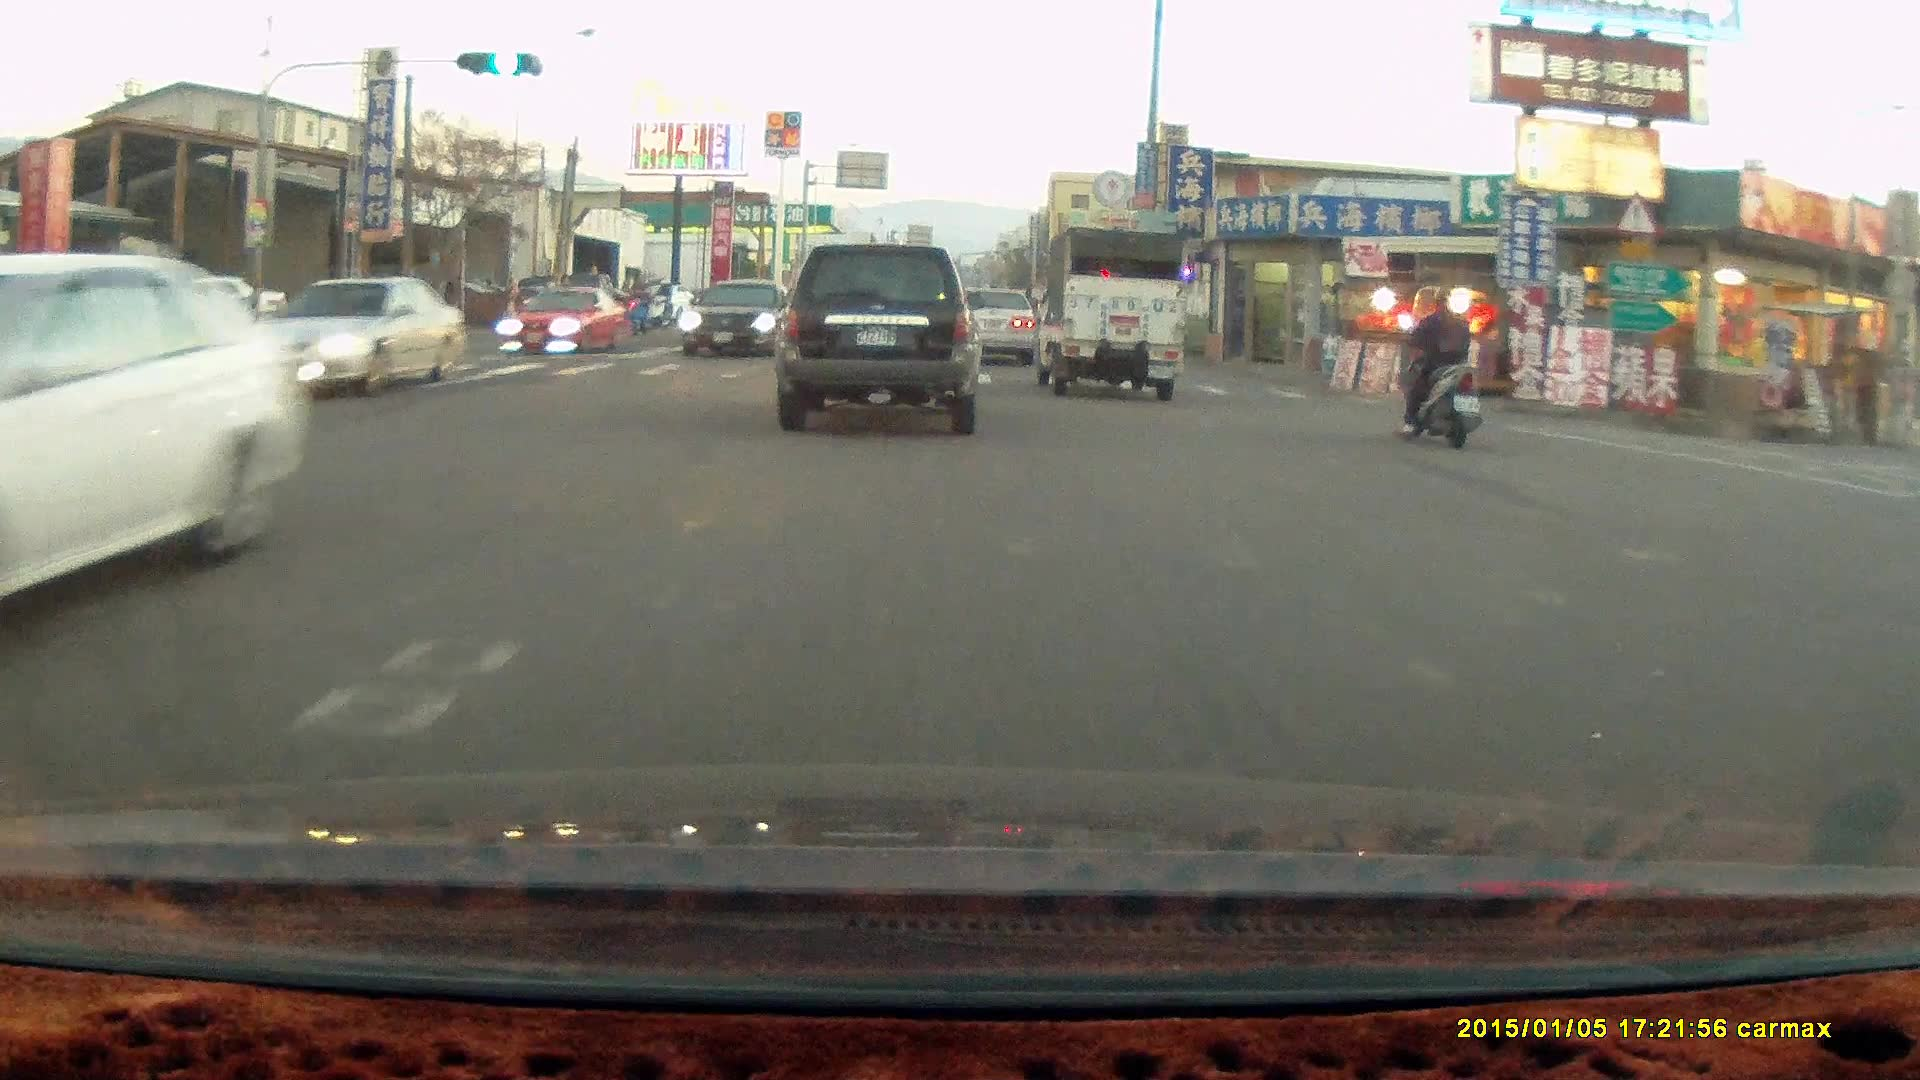rider: (1393, 282, 1481, 444), (621, 284, 656, 336), (643, 280, 676, 332)
vehicle: (1, 251, 310, 631), (773, 244, 986, 435), (211, 276, 476, 406), (1026, 225, 1181, 399), (681, 279, 810, 362), (118, 280, 281, 337), (508, 286, 626, 360), (947, 285, 1037, 366), (954, 288, 1040, 367)
